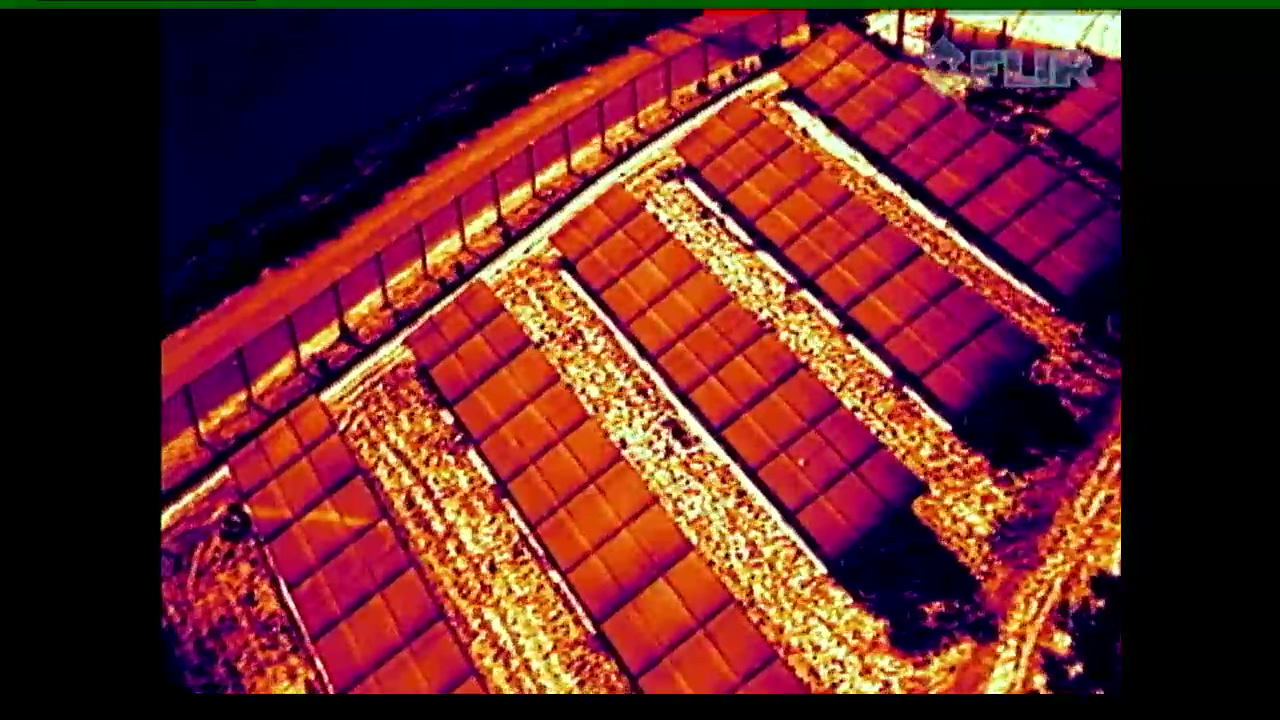hotspot: (751, 403, 883, 513)
